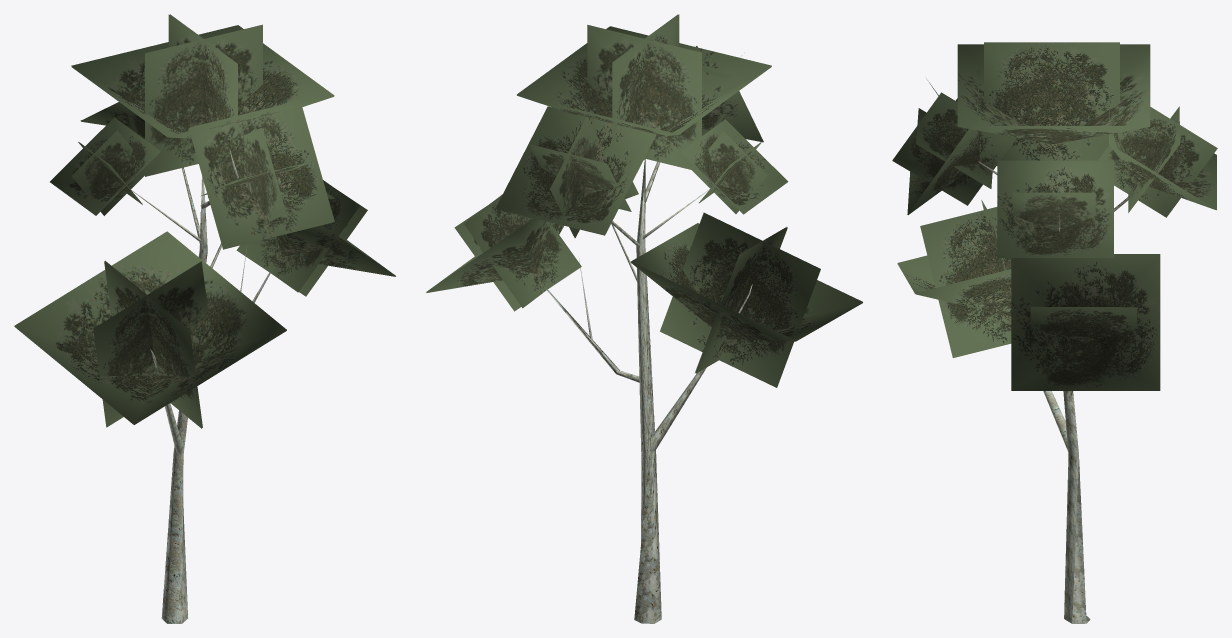
The model's file is ever_eucalyptus_med_l3.fbx.
3 views of the same model, side by side, from view 1: azimuth 30°, elevation 25°; view 2: azimuth 150°, elevation 25°; view 3: azimuth 270°, elevation 25° (orthographic). The views are drawn at different scales.
Parts seen in each view (by area): view 1: mesh_node; view 2: mesh_node; view 3: mesh_node.
Part boxes in pixels (box(x1,y1,x2,y2)): mesh_node: box(14, 14, 395, 623); mesh_node: box(426, 14, 862, 623); mesh_node: box(892, 42, 1217, 623).
Bounding box in the file's own units: 10.61 × 16.82 × 8.5.
